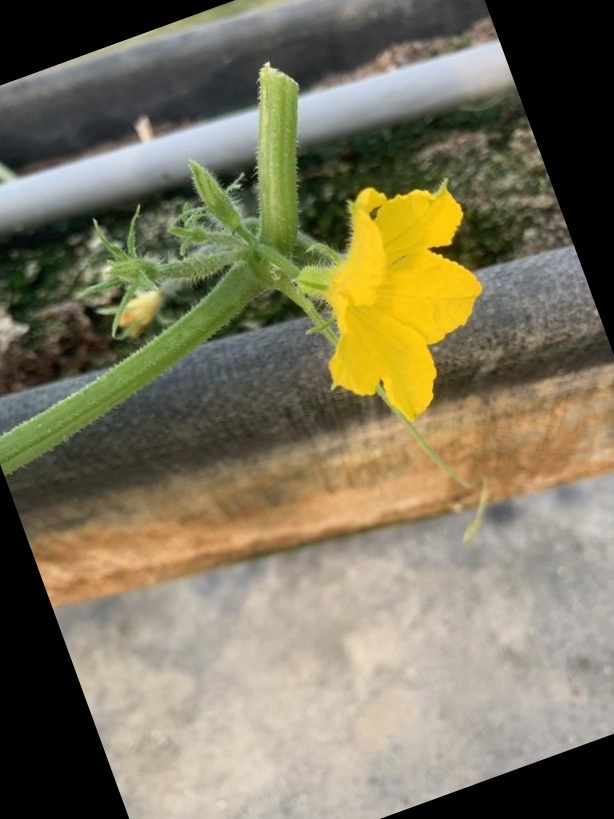flowering: (292, 183, 493, 425)
mature: (293, 184, 494, 425)
